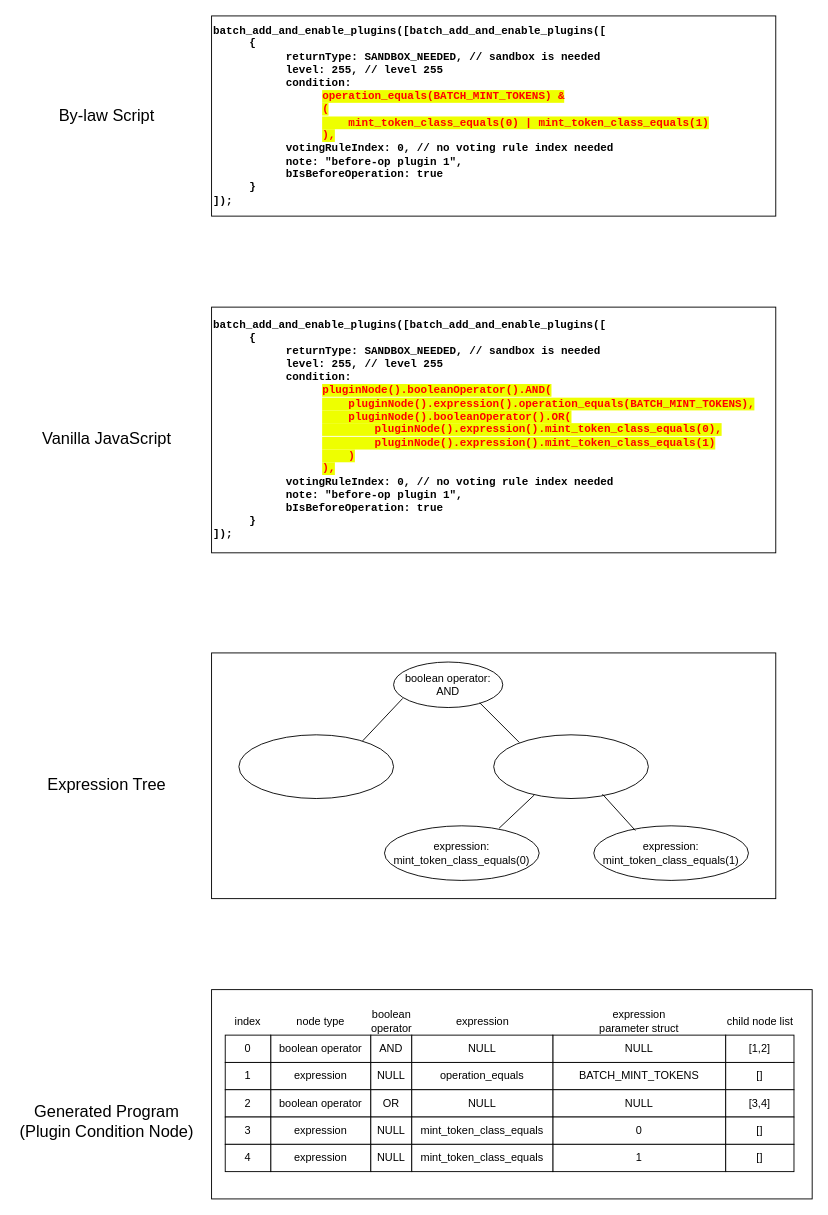
This 828x1215 diagram has some shape labels left out. The centre of each missing label's shape, as x and y in pixels:
"boolean operator: OR" belongs at pixel 570 766.
"expression: operation_equals( BATCH_MINT_TOKENS)" belongs at pixel 316 766.
